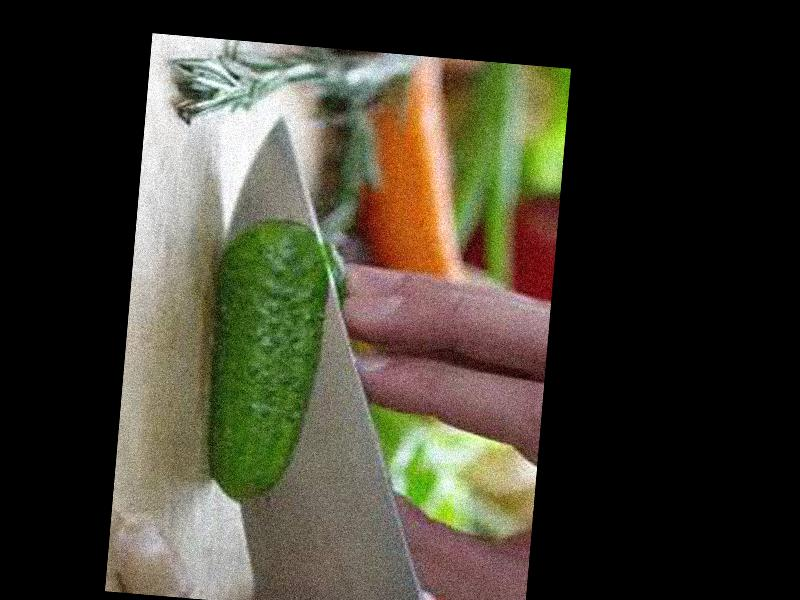Cucumber: (195, 213, 334, 504)
